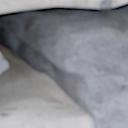brick: (0, 0, 127, 11), (0, 116, 93, 127)
crack: (0, 1, 127, 125)
